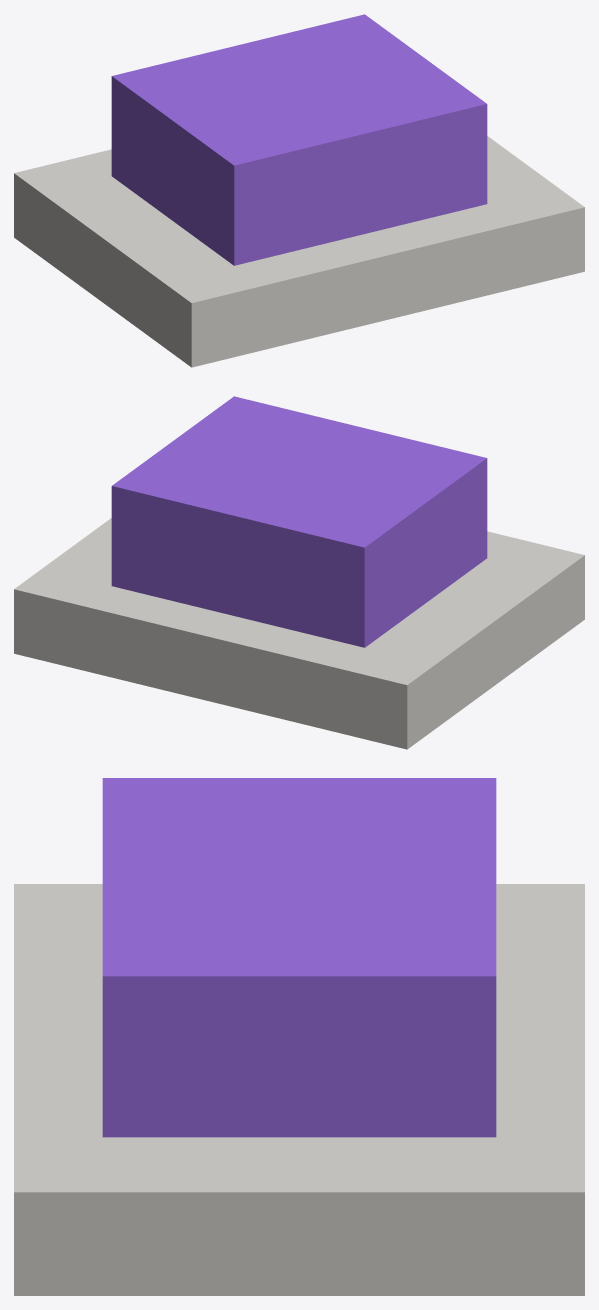
Rendered from art_easel-lv1.glb.
3 renders of one model, top to bottom at view 1: azimuth 30°, elevation 25°; view 2: azimuth 150°, elevation 25°; view 3: azimuth 270°, elevation 25°, orthographic. The views are drawn at different scales.
Visible parts, largest first — view 1: Level1, Base; view 2: Level1, Base; view 3: Level1, Base.
Boxes of the visible parts, x1,y1,x2,y2 form: Level1: (111,14,487,265); Base: (14,136,584,367); Level1: (111,396,487,647); Base: (14,518,584,749); Level1: (102,778,496,1137); Base: (14,884,584,1295).
Bounding box in the file's own units: 1.15 × 0.46 × 0.9.
